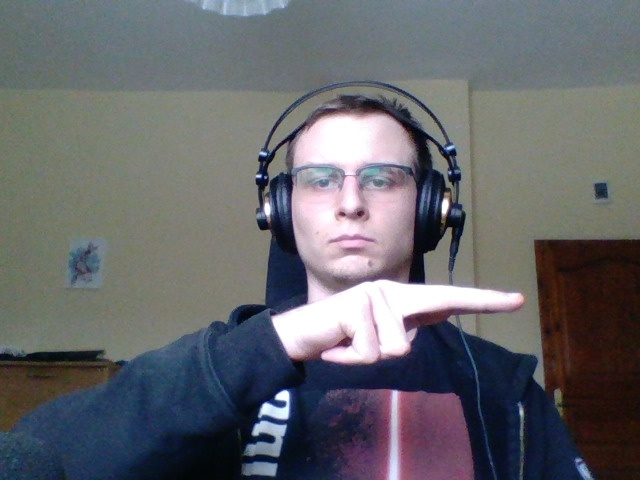no: (252, 244, 534, 373)
